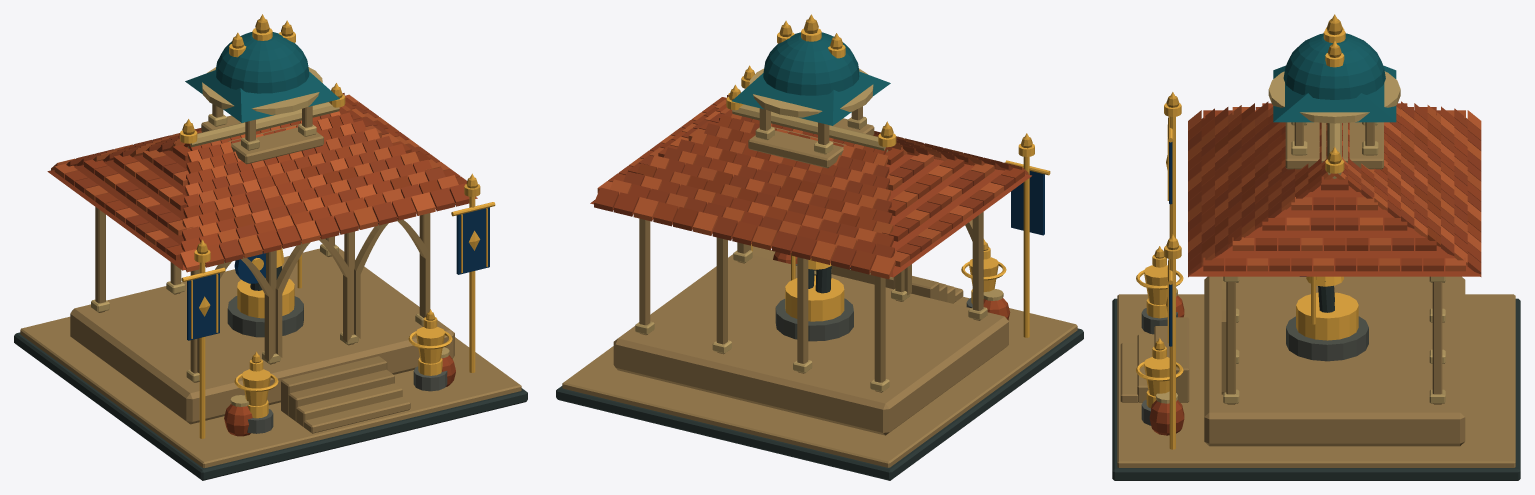
3 renders of one model, left to right at view 1: azimuth 30°, elevation 25°; view 2: azimuth 150°, elevation 25°; view 3: azimuth 270°, elevation 25°, orthographic. The views are drawn at different scales.
Parts seen in each view (by area): view 1: hero_hall_level2_structure, hero_hall_level2_metal; view 2: hero_hall_level2_structure, hero_hall_level2_metal; view 3: hero_hall_level2_structure, hero_hall_level2_metal.
Part boxes in pixels (x1,y1,x2,y2): hero_hall_level2_structure: (14,19,527,480); hero_hall_level2_metal: (180,14,495,438); hero_hall_level2_structure: (556,19,1083,480); hero_hall_level2_metal: (726,14,1050,337); hero_hall_level2_structure: (1112,19,1520,480); hero_hall_level2_metal: (1136,14,1358,449).
Size of the model in its own units: 5.6 by 5.78 by 5.6.
